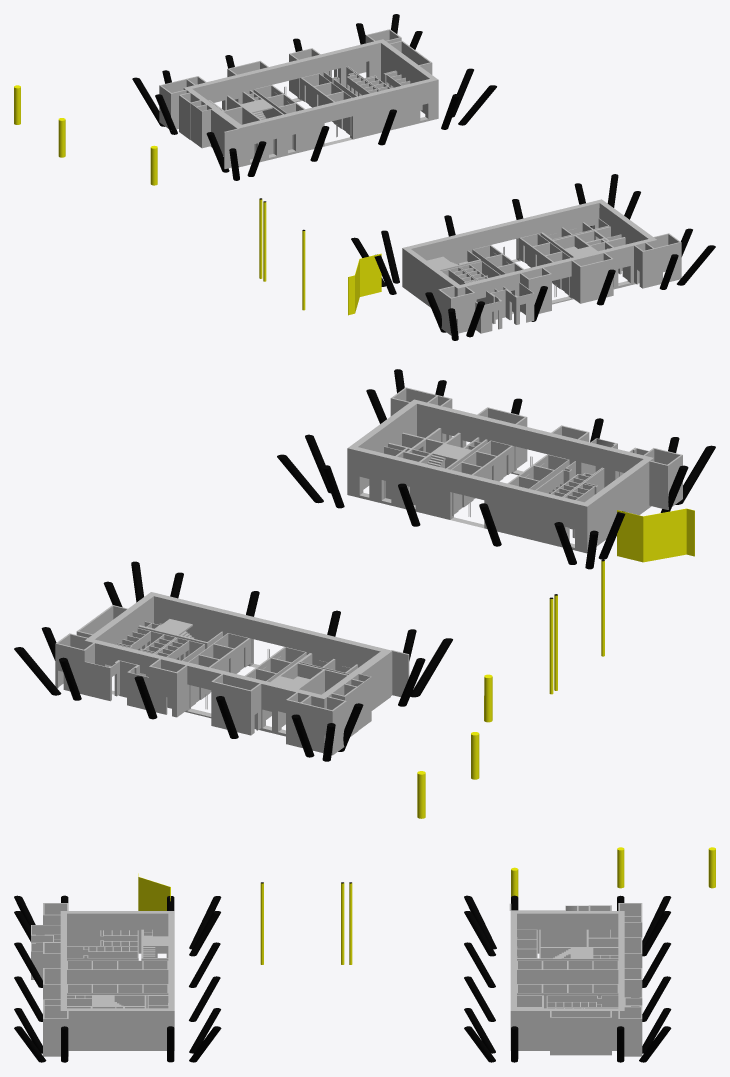
The model's file is sm_hana_building_1f_in.glb.
3 views of the same model, one above another, from view 1: azimuth 30°, elevation 25°; view 2: azimuth 150°, elevation 25°; view 3: azimuth 270°, elevation 25° (orthographic). The views are drawn at different scales.
Visible parts, largest first — view 1: sm_hana_building_1f_in; view 2: sm_hana_building_1f_in; view 3: sm_hana_building_1f_in.
Boxes of the visible parts, x1,y1,x2,y2 form: sm_hana_building_1f_in: (14,14,715,340); sm_hana_building_1f_in: (14,369,715,818); sm_hana_building_1f_in: (14,847,715,1062).
Size of the model in its own units: 53.72 by 11.39 by 87.35.
3 materials, 2 textured.
